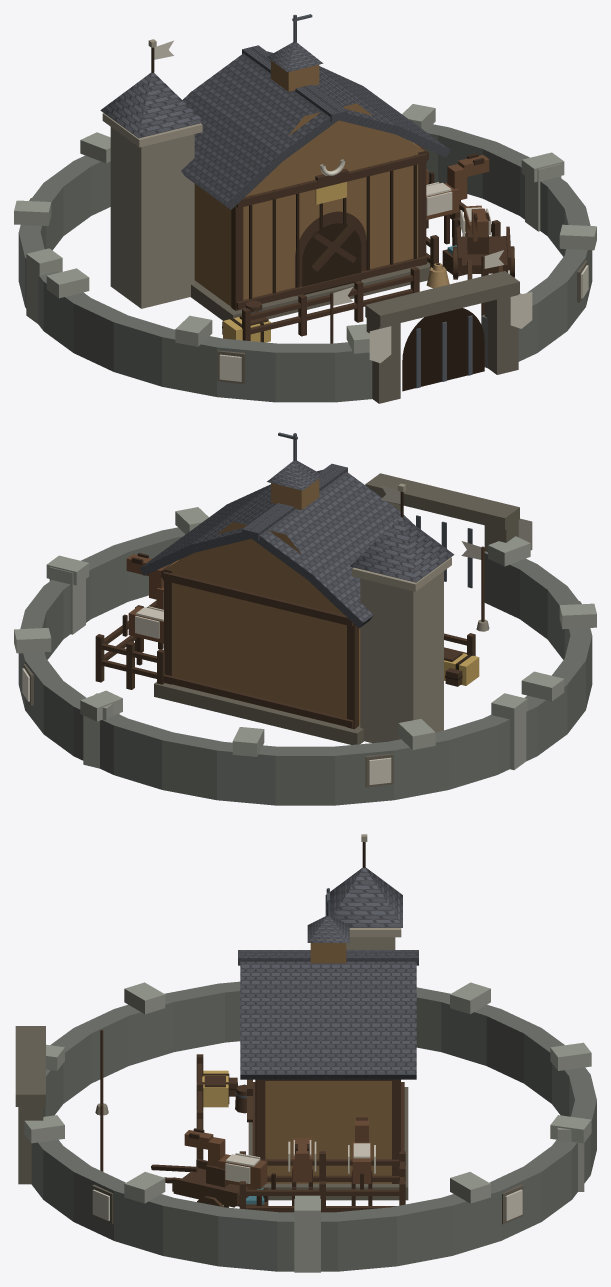
File: town-cavalry-L3.glb
The picture shows the model from 3 angles, top to bottom: view 1: azimuth 30°, elevation 25°; view 2: azimuth 150°, elevation 25°; view 3: azimuth 270°, elevation 25°; orthographic projection.
Parts seen in each view (by area): view 1: building-cavalry-L3, object 8, object 9, object 10, object 12, object 11, object 13, object 2, object 7; view 2: building-cavalry-L3, object 8, object 9, object 10, object 11, object 2, object 13; view 3: building-cavalry-L3, object 8, object 9, object 10, object 2, object 11.
Boxes of the visible parts, x1,y1,x2,y2 form: building-cavalry-L3: (100,14,514,342); object 8: (18,124,592,402); object 9: (14,104,596,353); object 10: (29,198,587,403); object 12: (402,308,484,391); object 11: (219,265,588,381); object 13: (416,315,472,388); object 2: (222,255,484,343); object 7: (333,250,503,305); building-cavalry-L3: (95,432,479,744); object 8: (18,527,592,805); object 9: (14,507,596,769); object 10: (23,473,581,787); object 11: (22,518,532,784); object 2: (445,546,484,686); object 13: (416,515,472,588); building-cavalry-L3: (151,834,418,1212); object 8: (31,981,596,1271); object 9: (24,982,591,1272); object 10: (15,1026,523,1224); object 2: (100,1029,246,1171); object 11: (92,1189,522,1220).
Size of the model in its own units: 7.02 by 3.44 by 6.95.
Materials: 17 (1 with a texture image).
